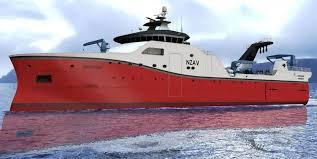Ship: (8, 4, 314, 110)
